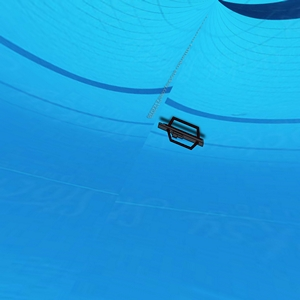submarine: (157, 119, 207, 153)
